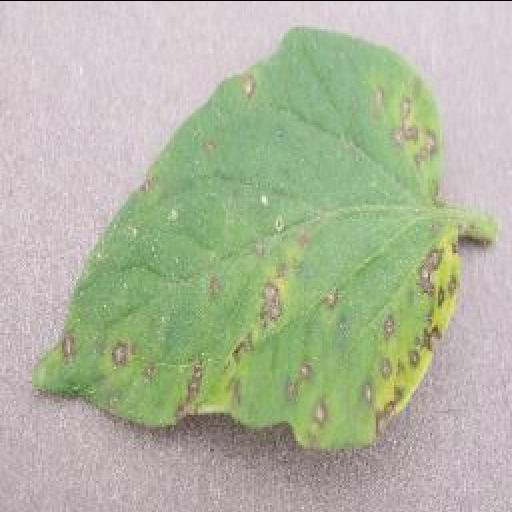disease_tomato: (32, 24, 464, 452)
